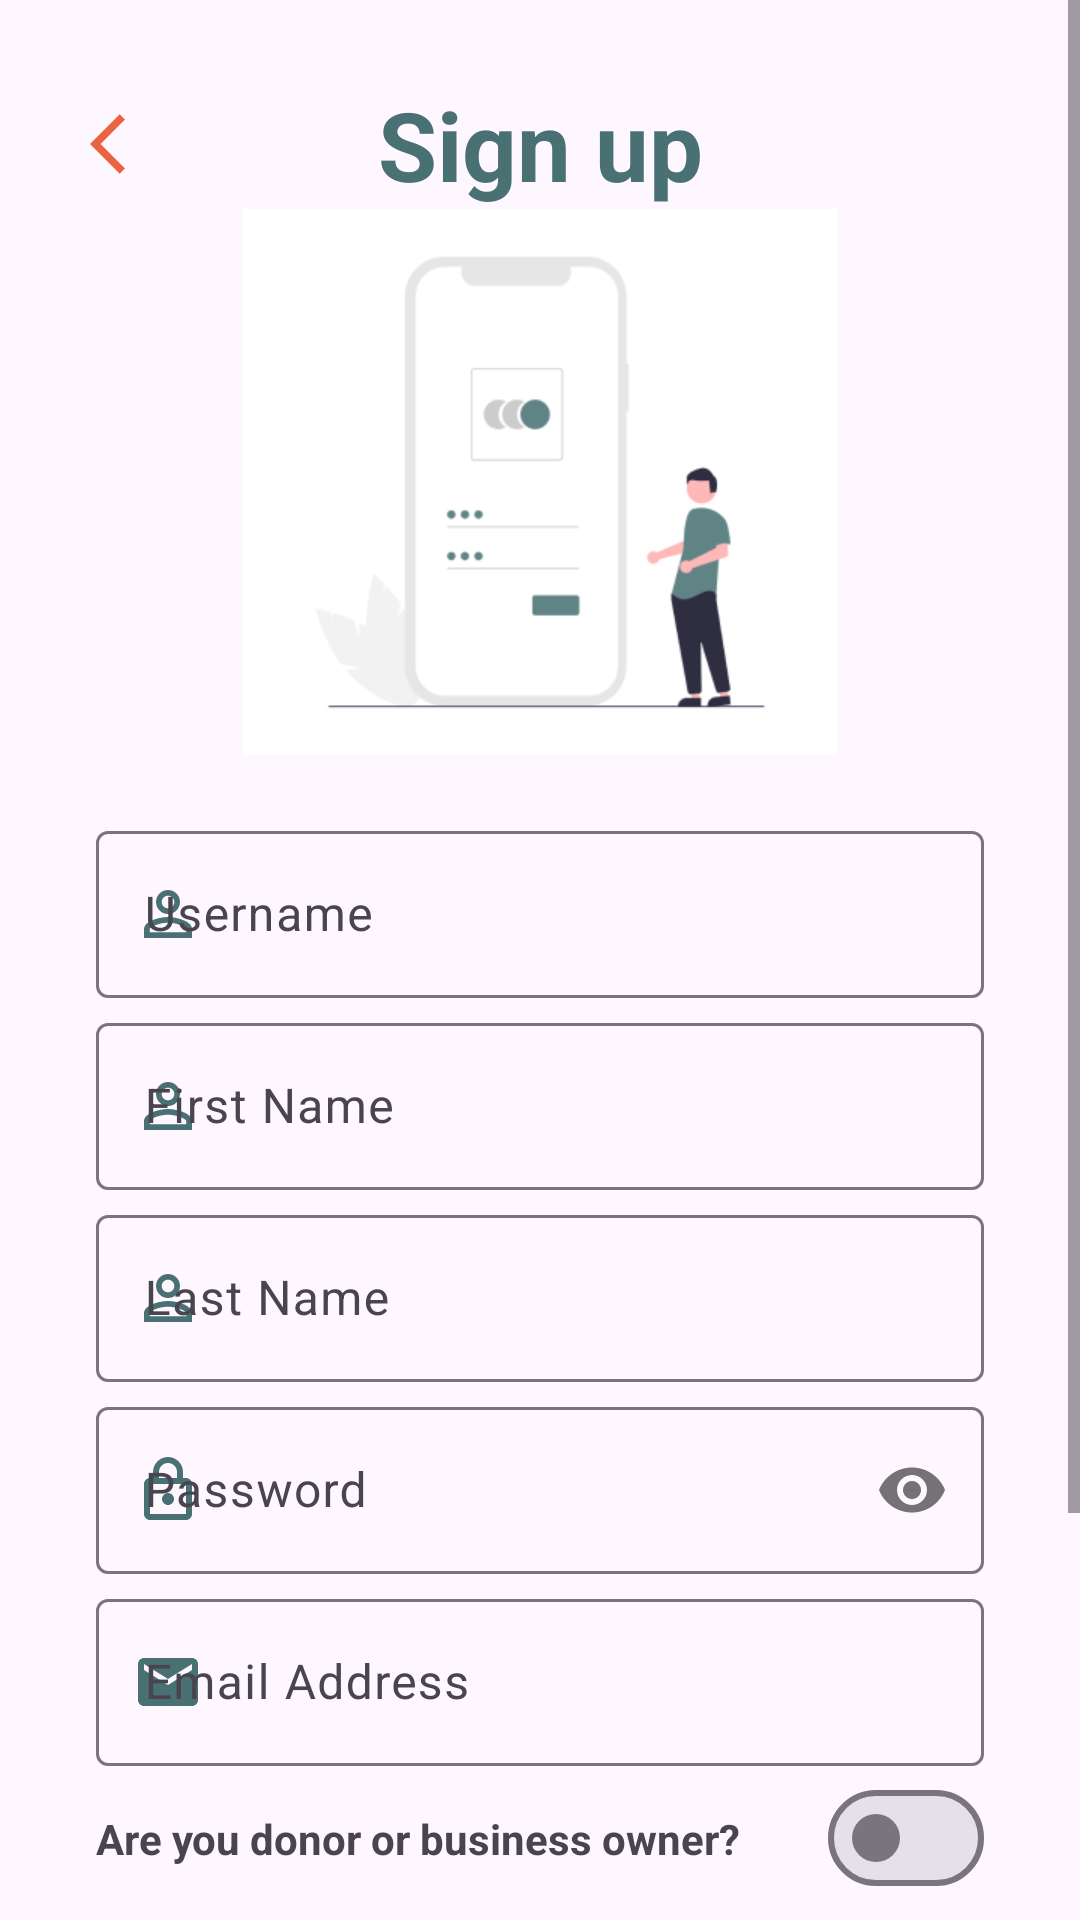

Locate icon controls on the screen. Image size 1080 x 1920, boxes as [left=x1, top=y1, right=x2, bottom=y2].
back arrow: [left=90, top=114, right=125, bottom=174]
